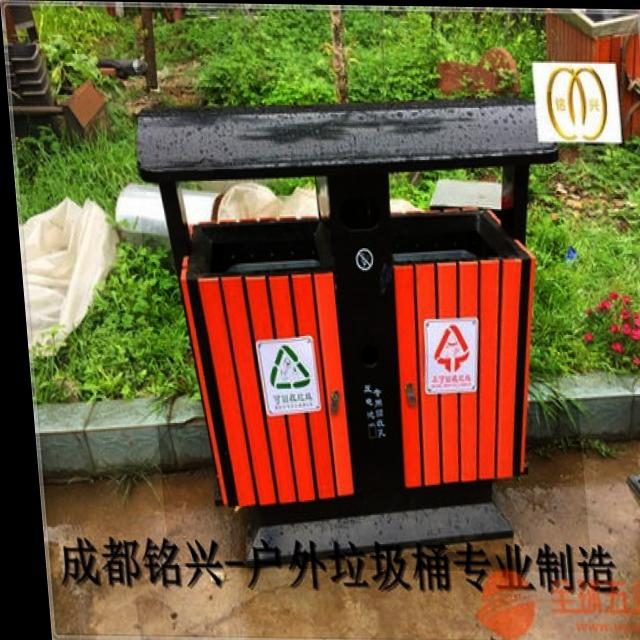garbage_bin: (128, 85, 582, 571)
